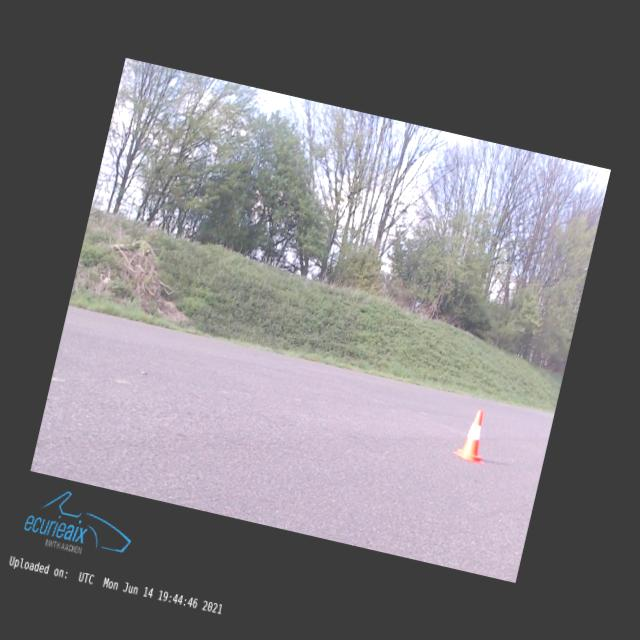orange_cone: (452, 405, 496, 464)
